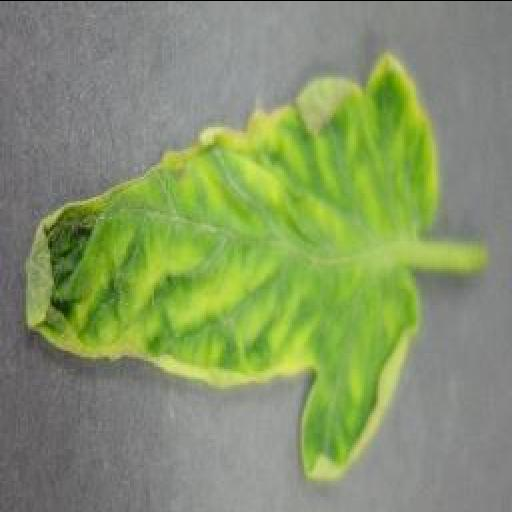disease_tomato: (21, 50, 443, 478)
